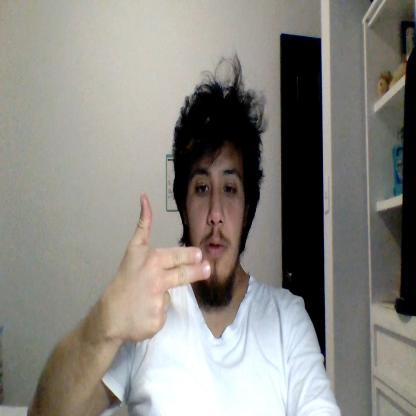H: (116, 192, 212, 341)
